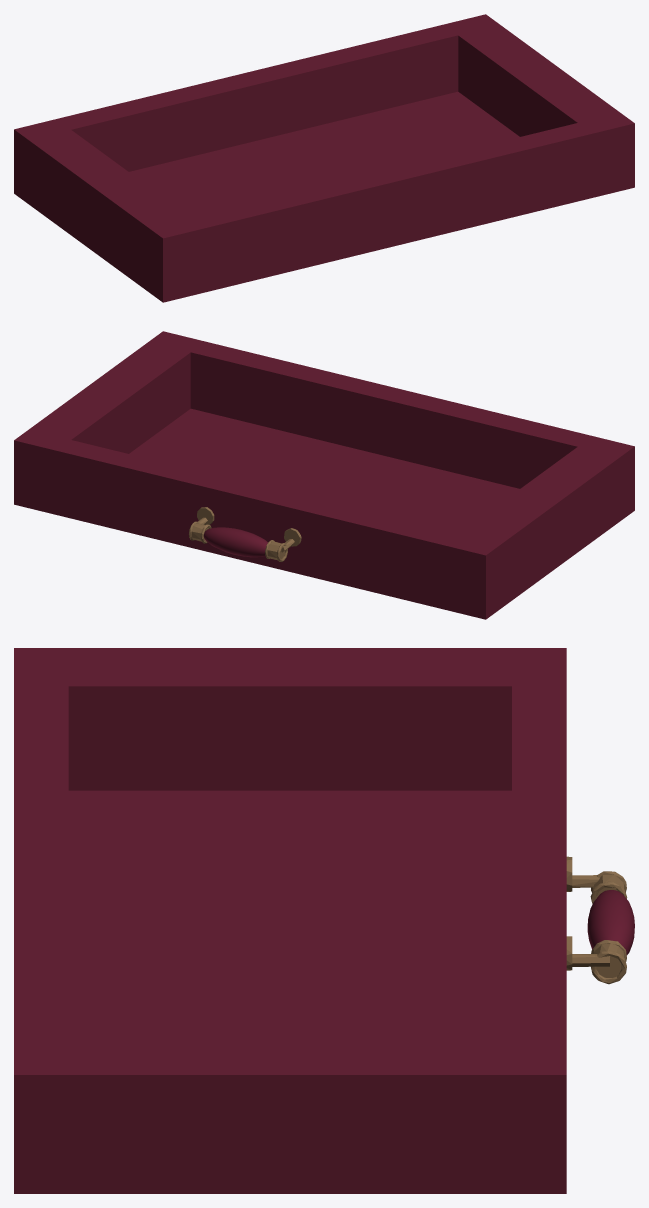
Rendered from drawer.fbx.
The picture shows the model from 3 angles, top to bottom: view 1: azimuth 30°, elevation 25°; view 2: azimuth 150°, elevation 25°; view 3: azimuth 270°, elevation 25°; orthographic projection. The views are drawn at different scales.
Parts seen in each view (by area): view 1: Cajon; view 2: Cajon; view 3: Cajon.
Boxes of the visible parts, x1,y1,x2,y2 form: Cajon: (14, 14, 634, 302); Cajon: (14, 331, 634, 619); Cajon: (14, 648, 634, 1193).
Size of the model in its own units: 434 by 56.47 by 267.
